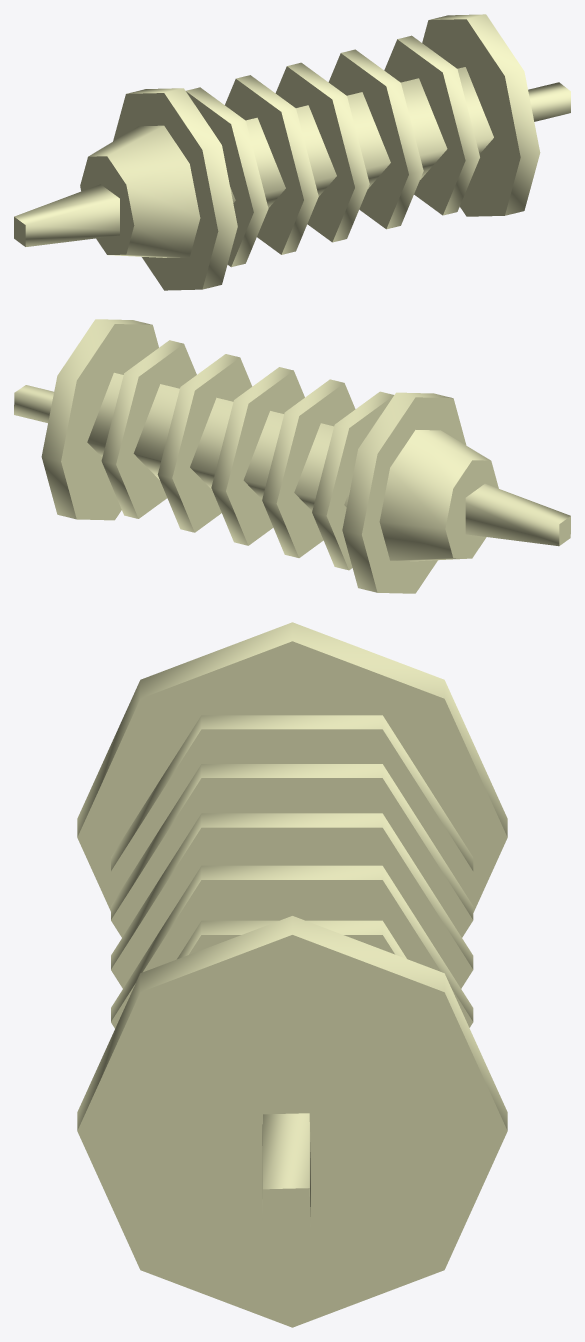
Rendered from utilityconnecter006.fbx.
3 renders of one model, top to bottom at view 1: azimuth 30°, elevation 25°; view 2: azimuth 150°, elevation 25°; view 3: azimuth 270°, elevation 25°, orthographic. The views are drawn at different scales.
Parts seen in each view (by area): view 1: utilityconnecter006_reference; view 2: utilityconnecter006_reference; view 3: utilityconnecter006_reference.
Boxes of the visible parts, x1=… form: utilityconnecter006_reference: x1=14, y1=14, x2=570, y2=290; utilityconnecter006_reference: x1=14, y1=319, x2=570, y2=593; utilityconnecter006_reference: x1=77, y1=622, x2=507, y2=1327.
Size of the model in its own units: 2375 by 821 by 814.
